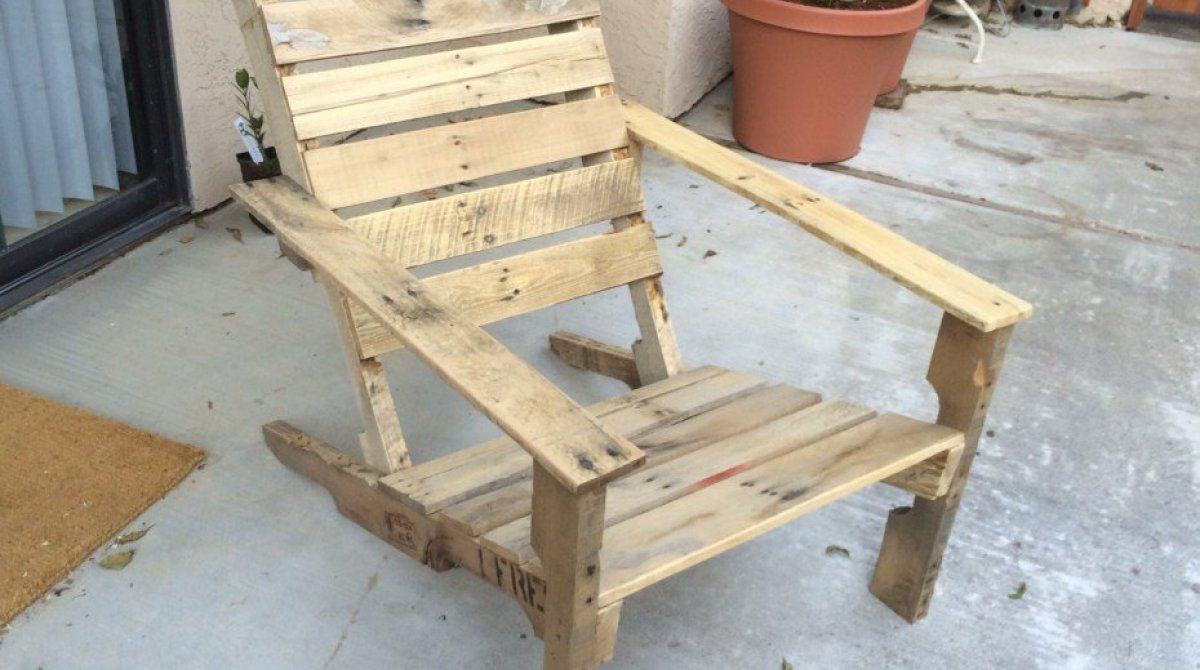chairs: (206, 5, 1034, 670)
